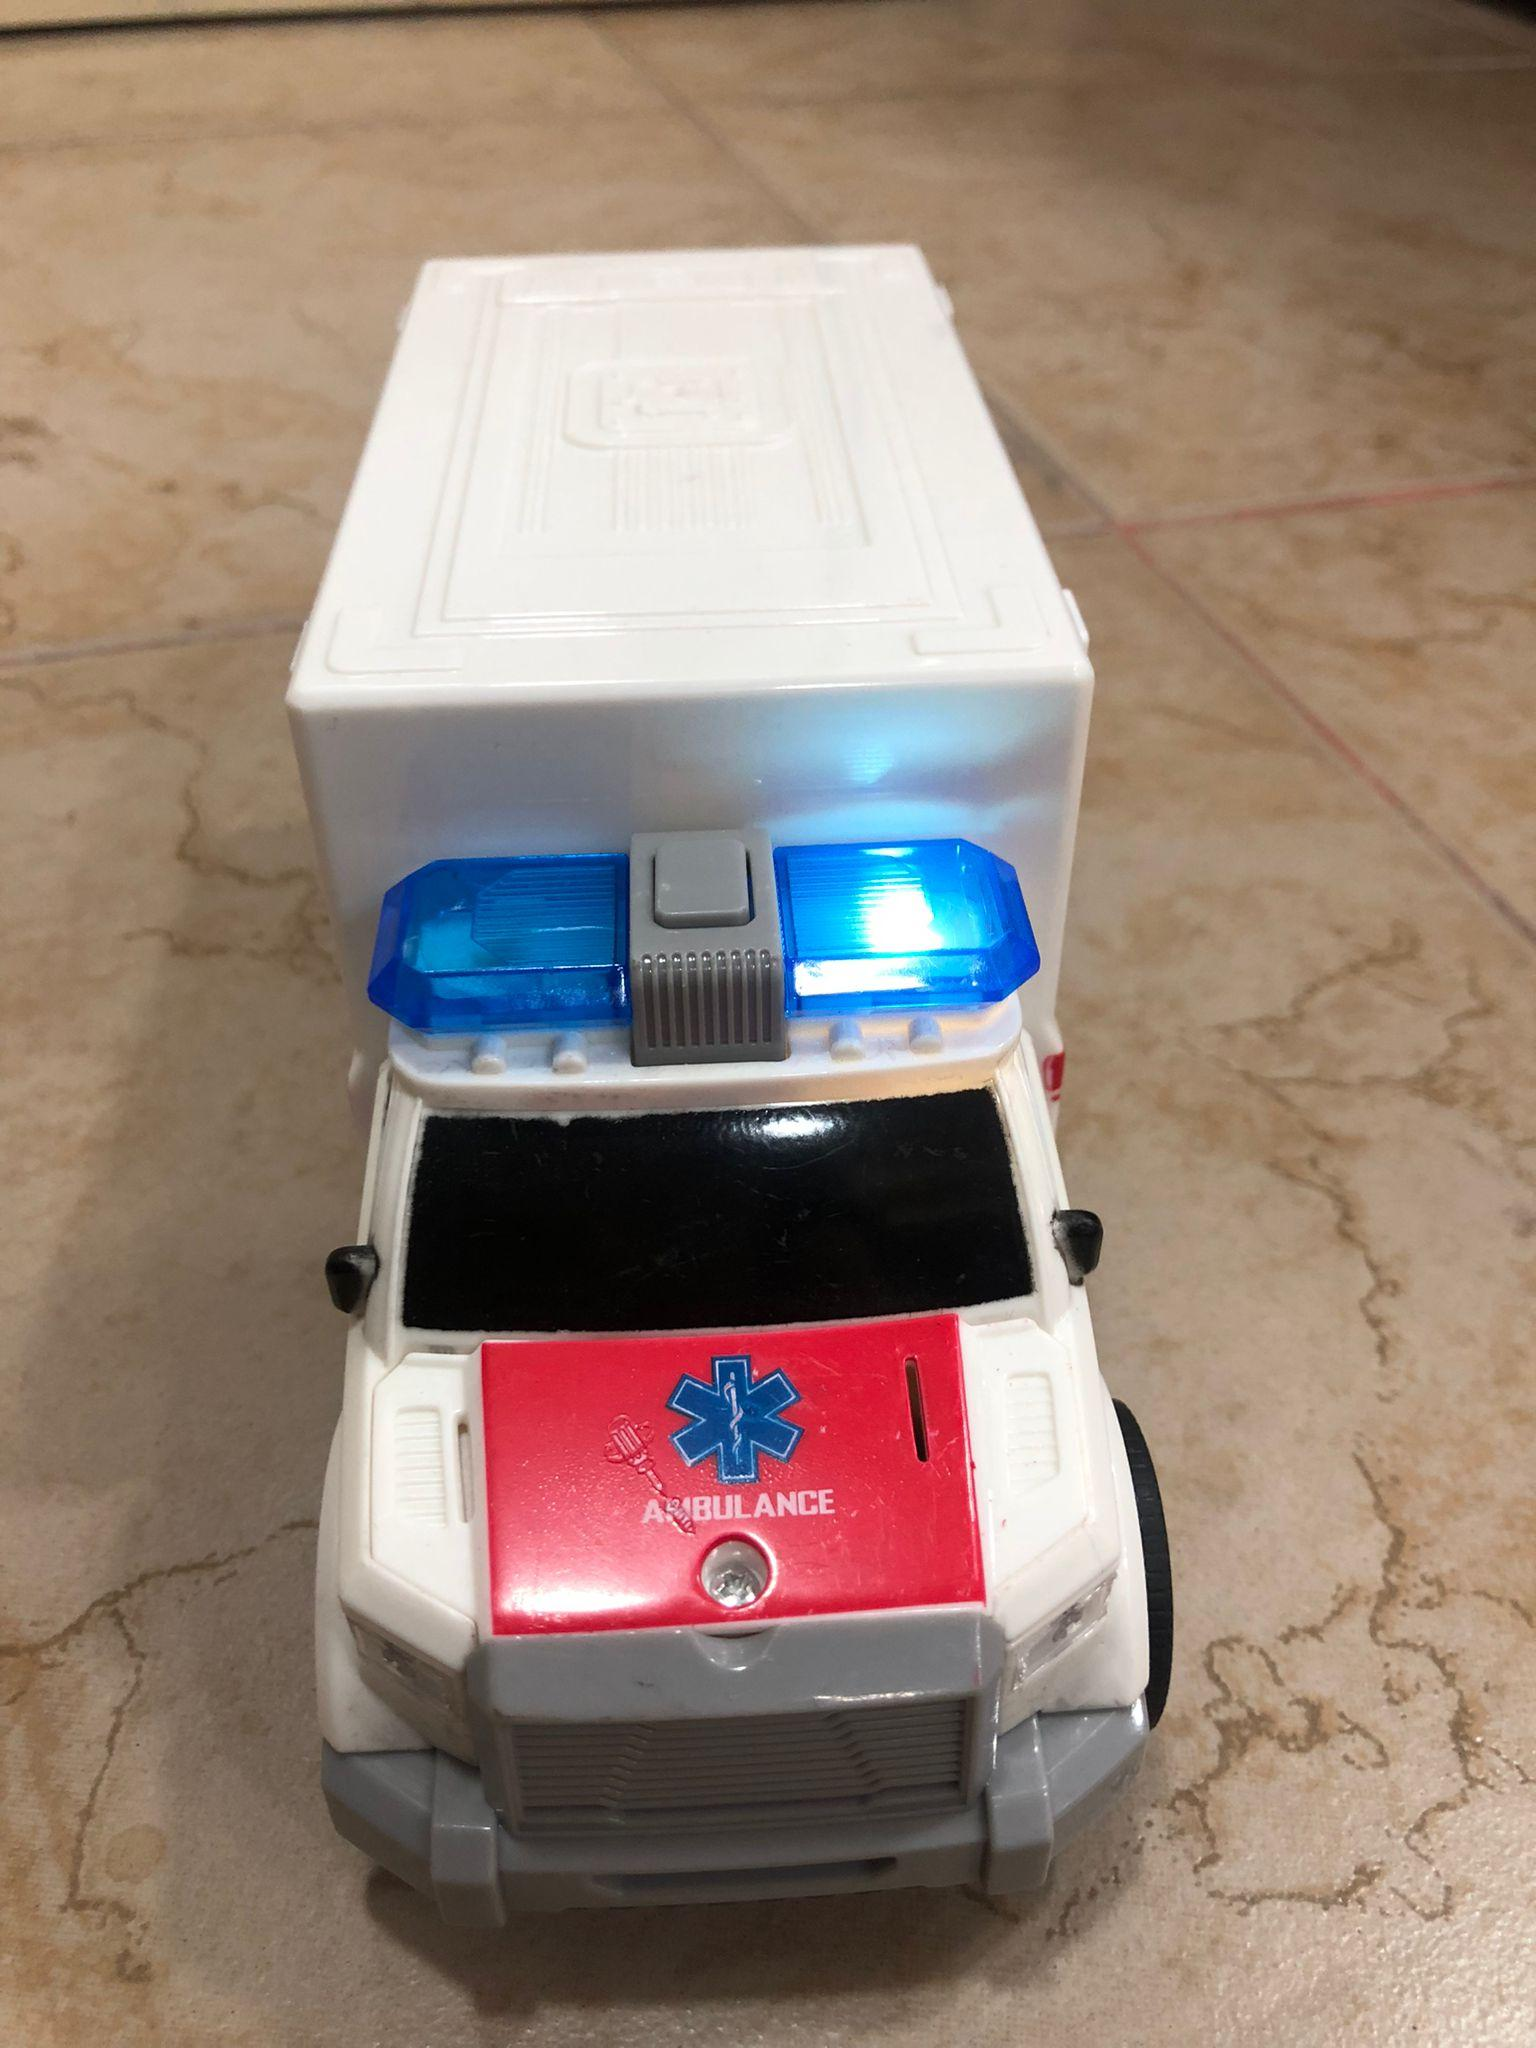ambulance_on: (274, 235, 1175, 1953)
